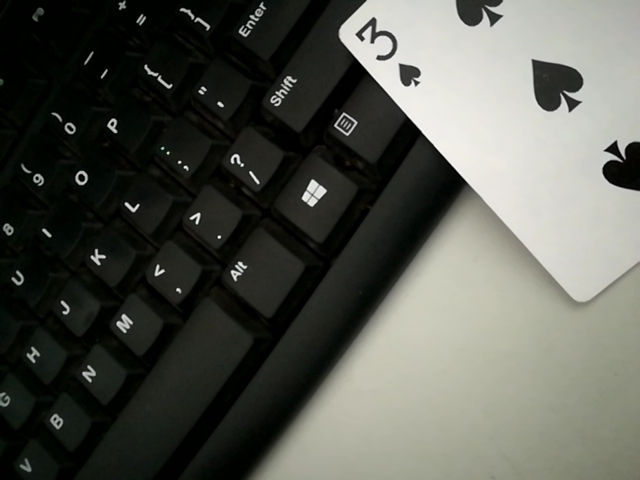ht 3: (327, 1, 640, 301)
